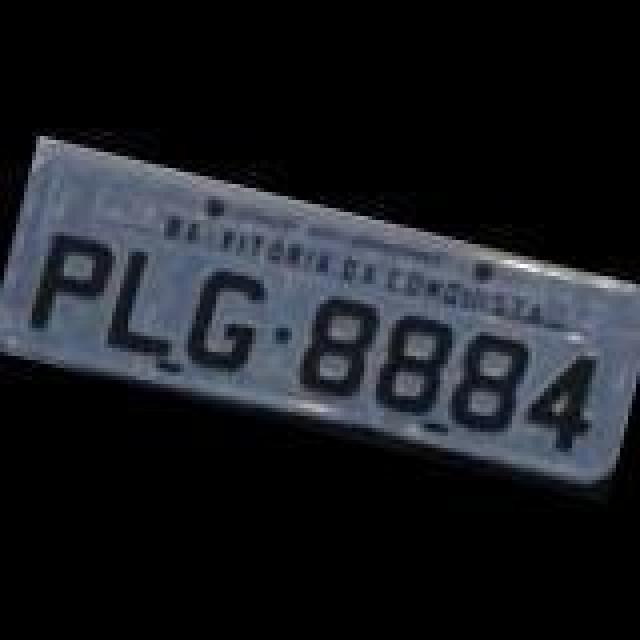4: (522, 340, 614, 460)
8: (442, 320, 534, 440), (292, 282, 380, 406), (368, 306, 456, 422)
G: (180, 260, 268, 380)
L: (96, 242, 192, 366)
P: (28, 222, 116, 346)
